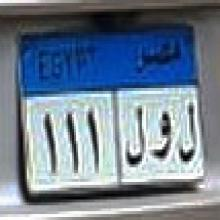1: (84, 107, 102, 177), (63, 110, 81, 176), (42, 109, 60, 175)
laam: (123, 102, 146, 169), (178, 98, 197, 165)
waw: (150, 105, 172, 164)
